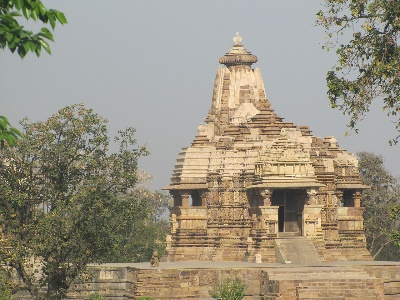amalaka: (213, 46, 267, 71)
gopuram: (201, 61, 285, 137)
mandapa: (239, 175, 328, 231), (155, 176, 224, 219), (332, 174, 374, 228)
